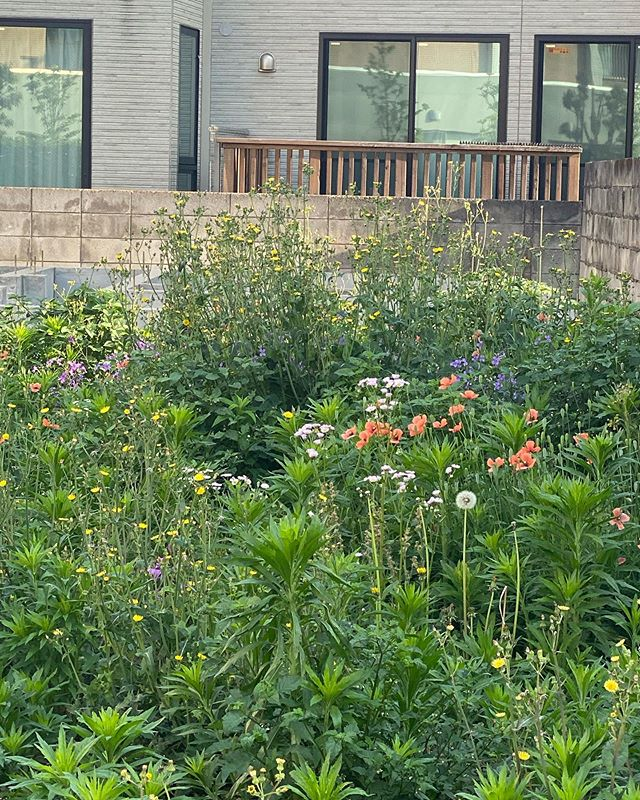building: (1, 1, 640, 260)
vegetation: (15, 278, 640, 800)
